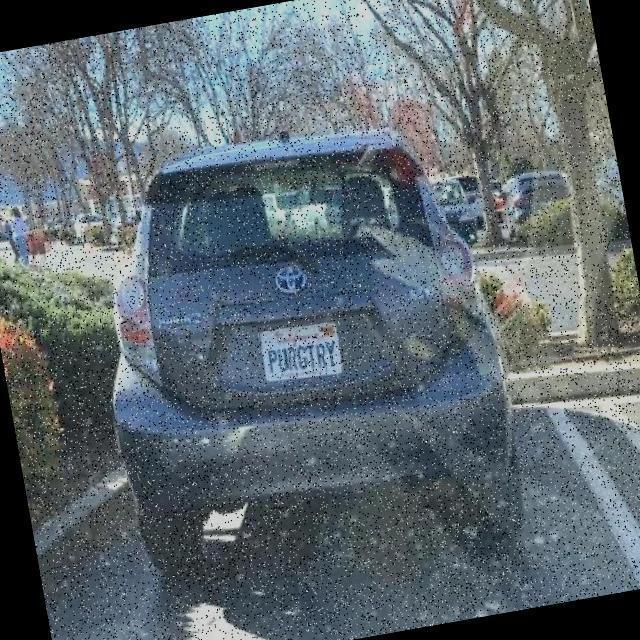license-plate: (262, 315, 370, 400)
